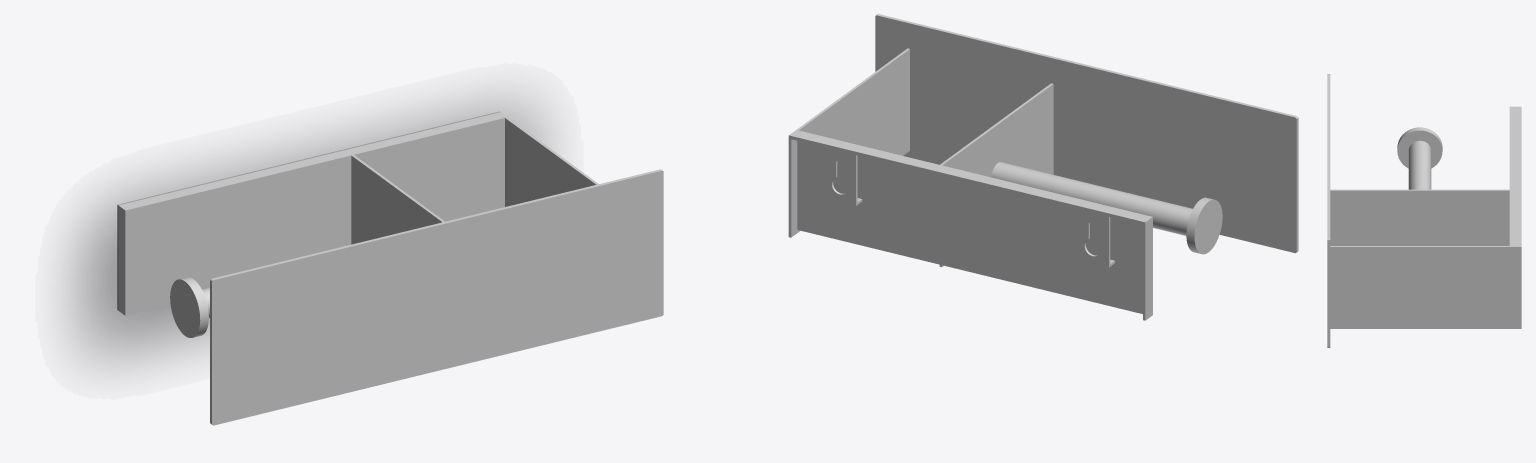
Rendered from skyline-duetto.2a8f0755b4.ar.glb.
3 views of the same model, side by side, from view 1: azimuth 30°, elevation 25°; view 2: azimuth 150°, elevation 25°; view 3: azimuth 270°, elevation 25° (orthographic). The views are drawn at different scales.
Visible parts, largest first — view 1: NAUO1, object 2; view 2: NAUO1; view 3: NAUO1.
Part boxes in pixels (box(x1,y1,x2,y2)): NAUO1: box(117, 111, 663, 425); object 2: box(70, 102, 546, 360); NAUO1: box(788, 14, 1298, 320); NAUO1: box(1327, 74, 1521, 347).
Bounding box in the file's own units: 0.34 × 0.16 × 0.129.
2 materials, 1 textured.
